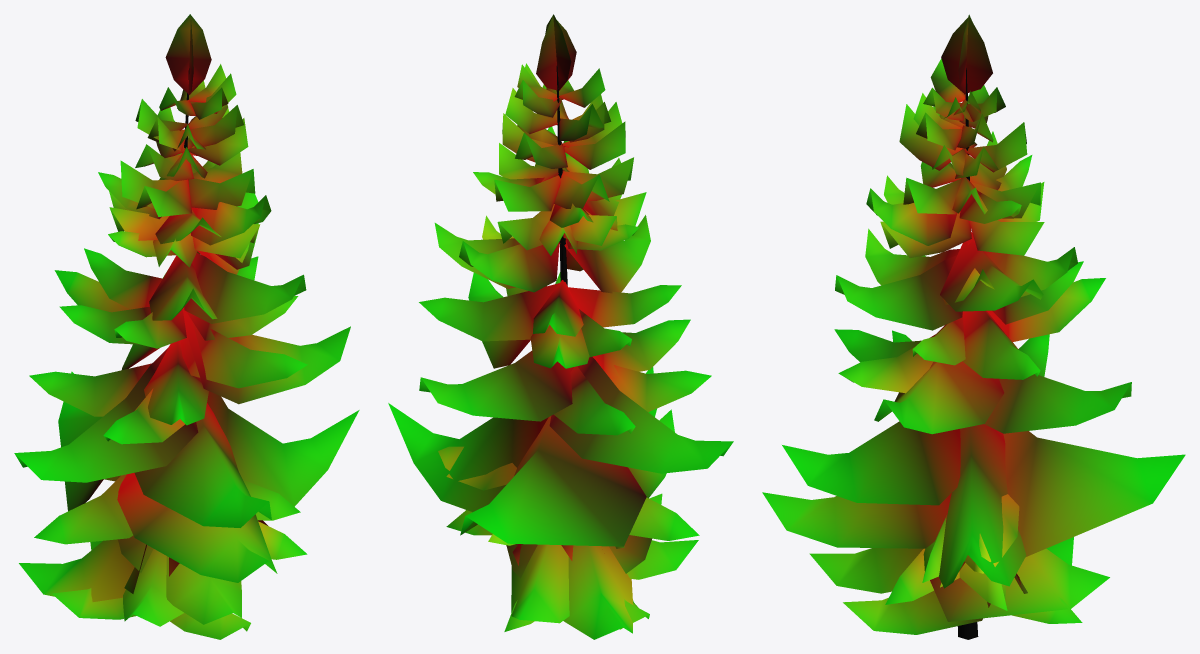
The model's file is Spruce_Small_3_LOD_1.fbx.
3 renders of one model, left to right at view 1: azimuth 30°, elevation 25°; view 2: azimuth 150°, elevation 25°; view 3: azimuth 270°, elevation 25°, orthographic. The views are drawn at different scales.
Parts seen in each view (by area): view 1: Spruce_Small_3_LOD_1; view 2: Spruce_Small_3_LOD_1; view 3: Spruce_Small_3_LOD_1.
Part boxes in pixels (<box>): Spruce_Small_3_LOD_1: <box>14,14,359,639</box>; Spruce_Small_3_LOD_1: <box>388,14,733,639</box>; Spruce_Small_3_LOD_1: <box>762,14,1185,639</box>.
Bounding box in the file's own units: 2.96 × 4.88 × 3.
